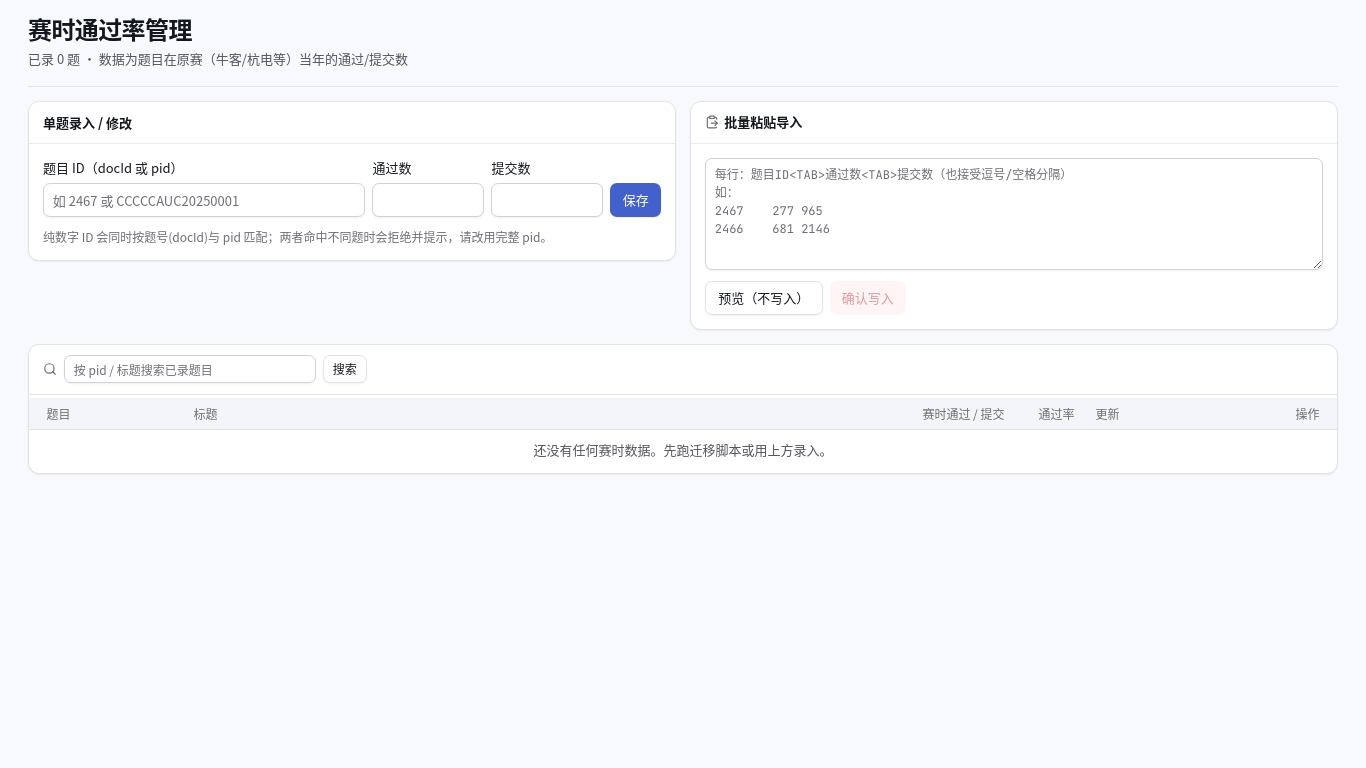
Test: real-pass management page › rejects an incomplete single-item form without sending a request
Click the button "保存": [636, 200] box [610,183,661,217]
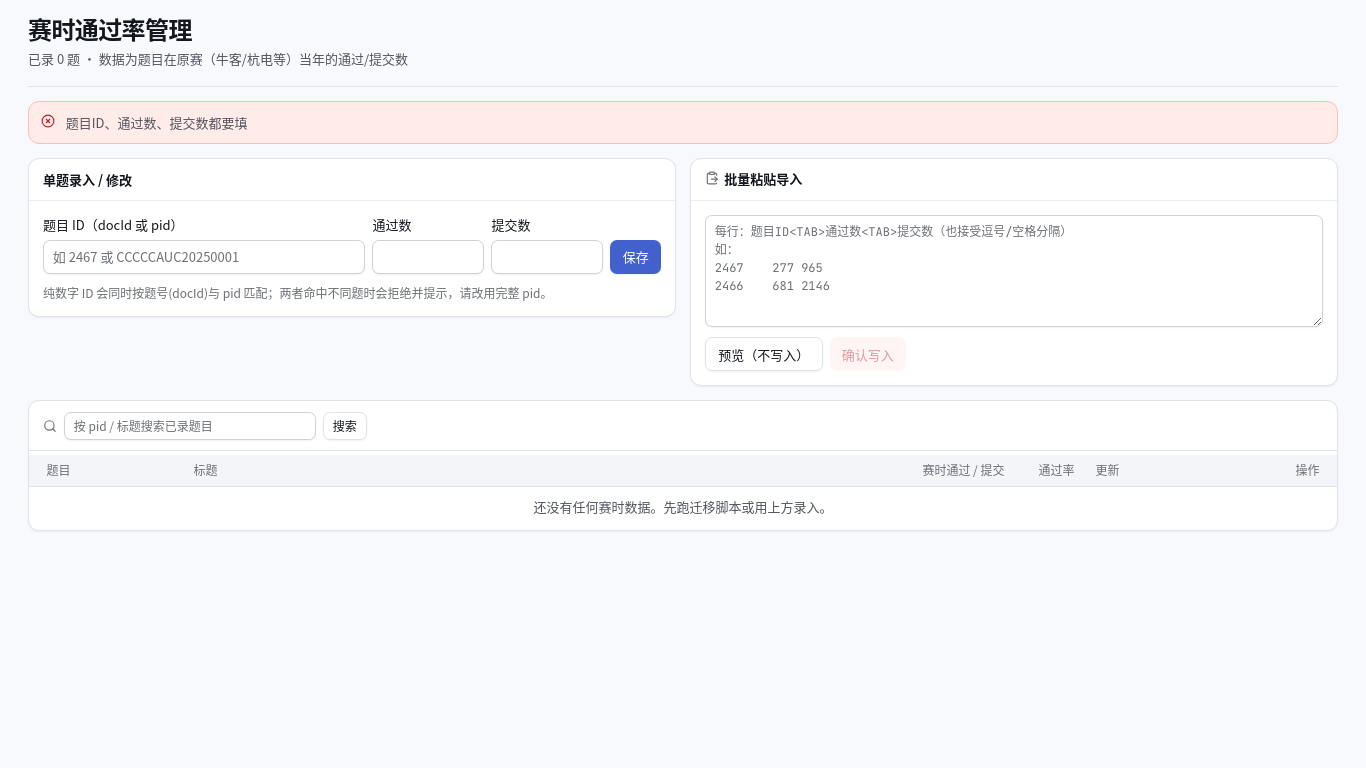
Expected: the text "题目ID、通过数、提交数都要填" is shown, [66,113,248,132]
